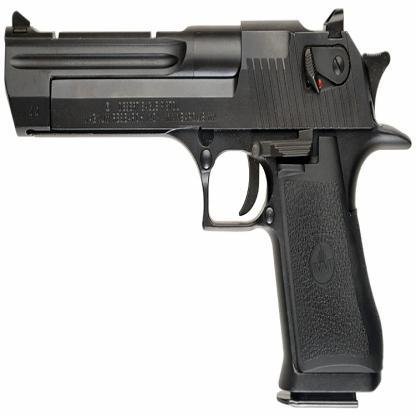gun: (3, 3, 409, 416)
